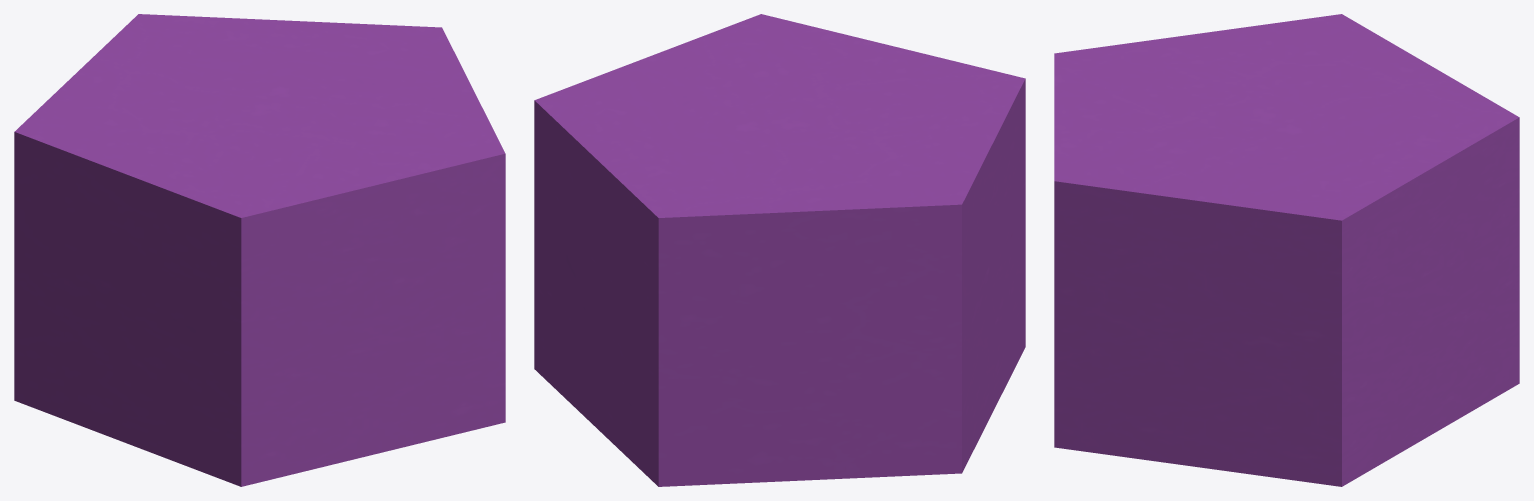
File: tier-t4.glb
The picture shows the model from 3 angles, left to right: view 1: azimuth 30°, elevation 25°; view 2: azimuth 150°, elevation 25°; view 3: azimuth 270°, elevation 25°; orthographic projection.
Visible parts, largest first — view 1: gem-t4-abyss-tempered; view 2: gem-t4-abyss-tempered; view 3: gem-t4-abyss-tempered.
Boxes of the visible parts, x1,y1,x2,y2 form: gem-t4-abyss-tempered: (14, 14, 505, 486); gem-t4-abyss-tempered: (534, 14, 1025, 486); gem-t4-abyss-tempered: (1054, 14, 1519, 486).
Size of the model in its own units: 0.2663 by 0.16 by 0.2533.
Materials: 1 (1 with a texture image).
